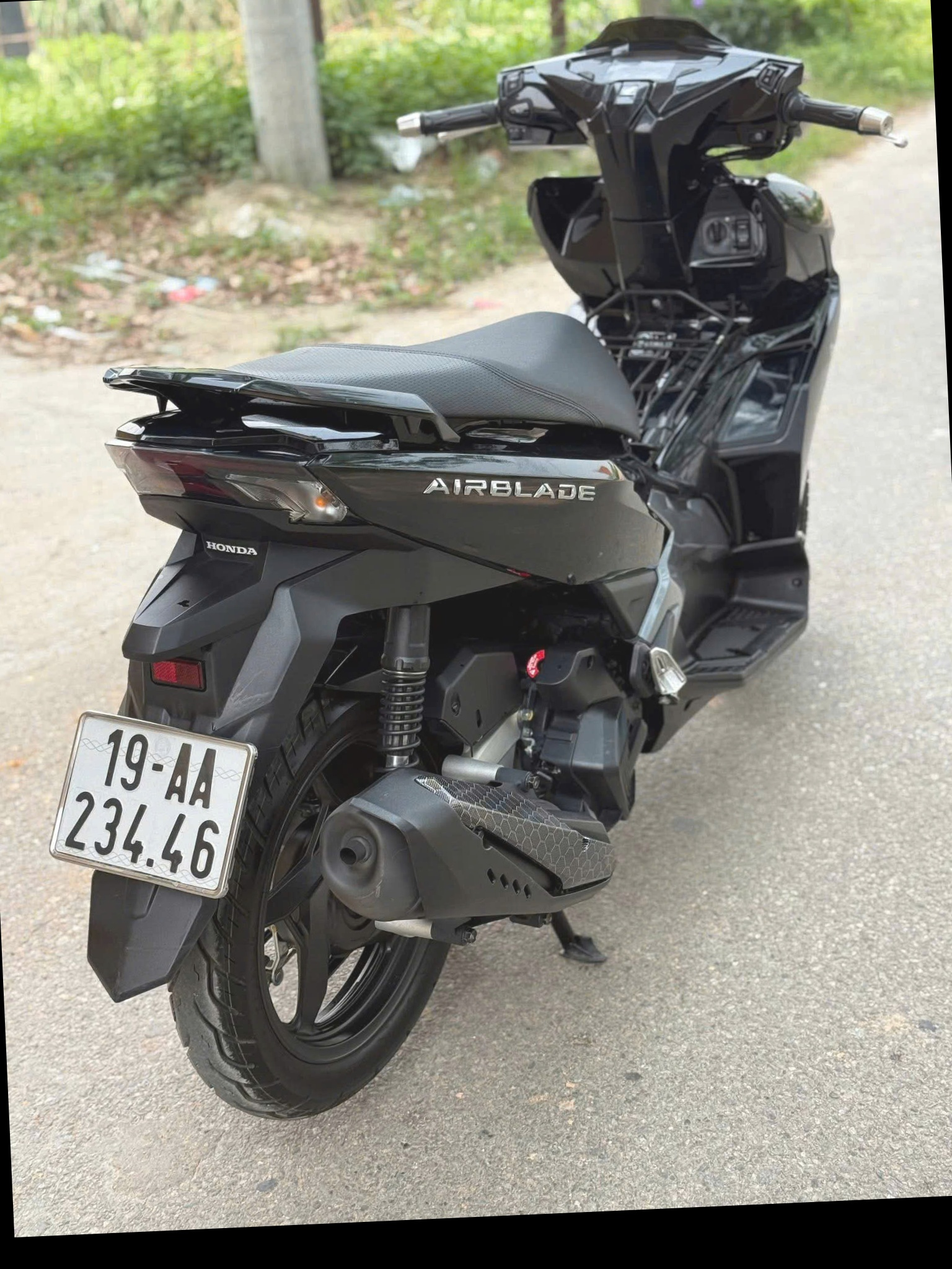Bien-so: (49, 701, 266, 917)
